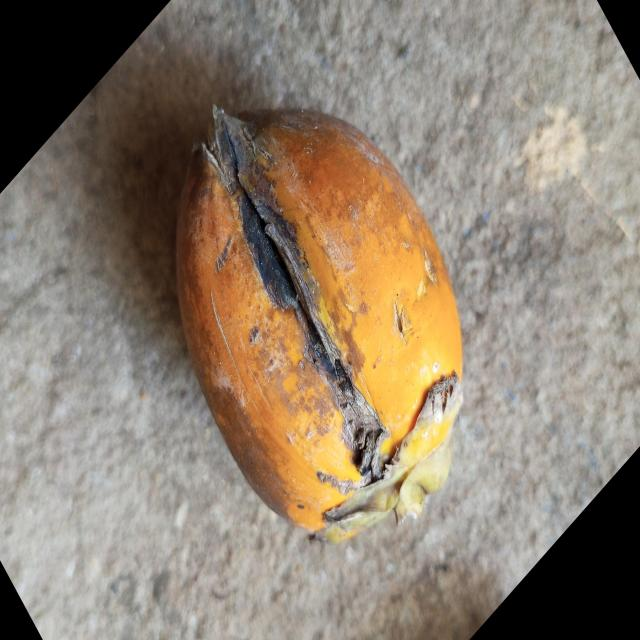damaged: (174, 107, 465, 546)
